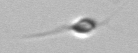plankton: (61, 13, 103, 38)
